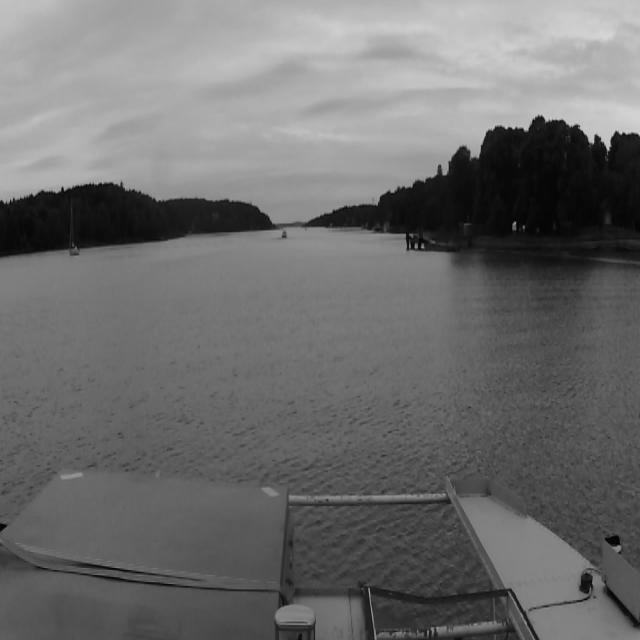ship: (69, 205, 80, 255), (282, 228, 288, 238)
